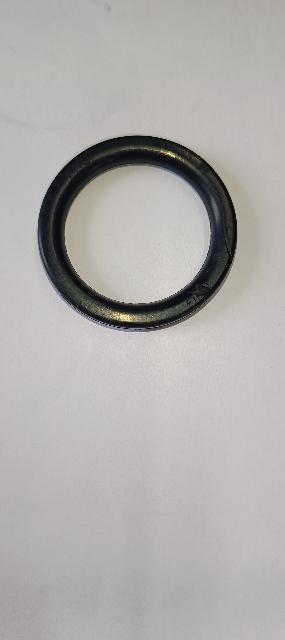scratch: (216, 225, 239, 275)
